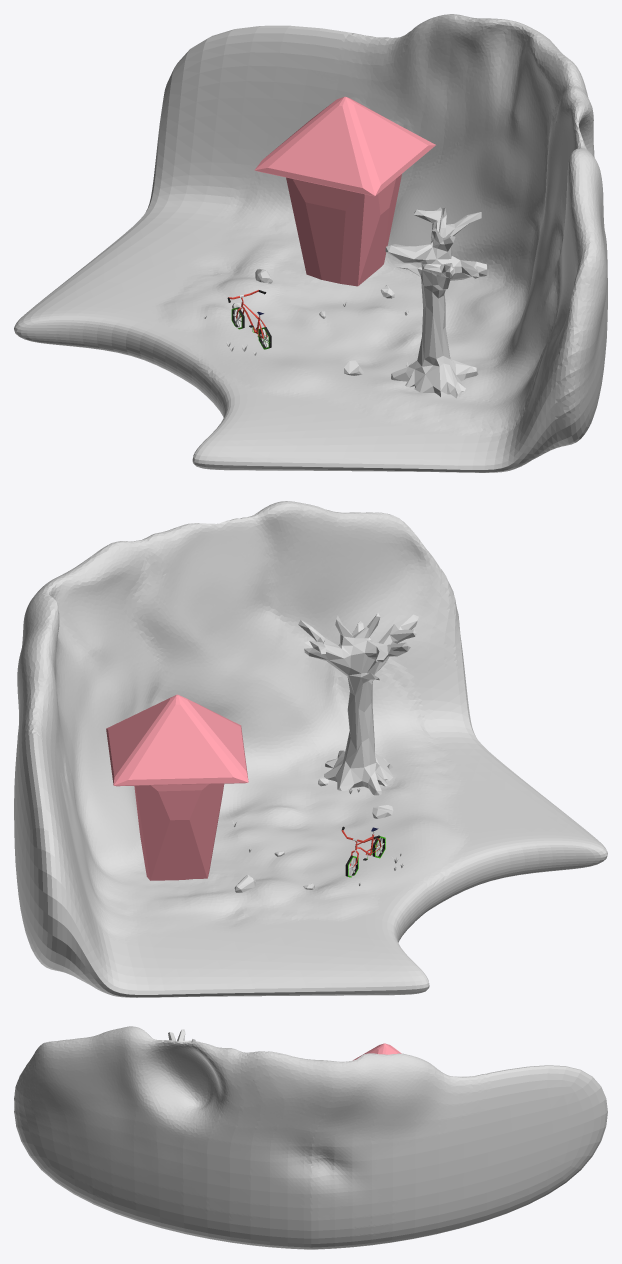
File: titleScreen.fbx
3 views of the same model, one above another, from view 1: azimuth 30°, elevation 25°; view 2: azimuth 150°, elevation 25°; view 3: azimuth 270°, elevation 25° (orthographic). The views are drawn at different scales.
Parts seen in each view (by area): view 1: BKG.001, House.001, TreeHP.002; view 2: BKG.001, House.001, TreeHP.002; view 3: BKG.001.
Boxes of the visible parts, <box> form: BKG.001: <box>14,14,607,472</box>; House.001: <box>254,96,435,286</box>; TreeHP.002: <box>385,207,487,398</box>; BKG.001: <box>14,501,607,997</box>; House.001: <box>106,694,248,880</box>; TreeHP.002: <box>298,613,418,795</box>; BKG.001: <box>14,1026,607,1249</box>.
Size of the model in its own units: 41210 by 22679 by 61763.
